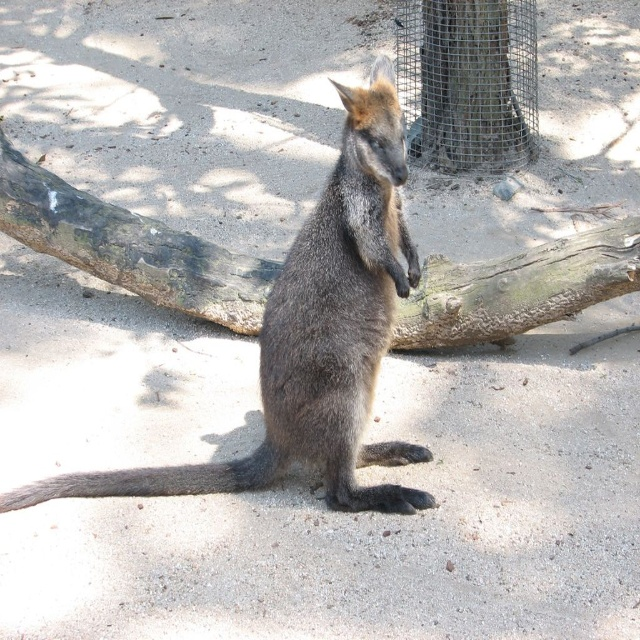Kangaroo: (0, 57, 438, 511)
